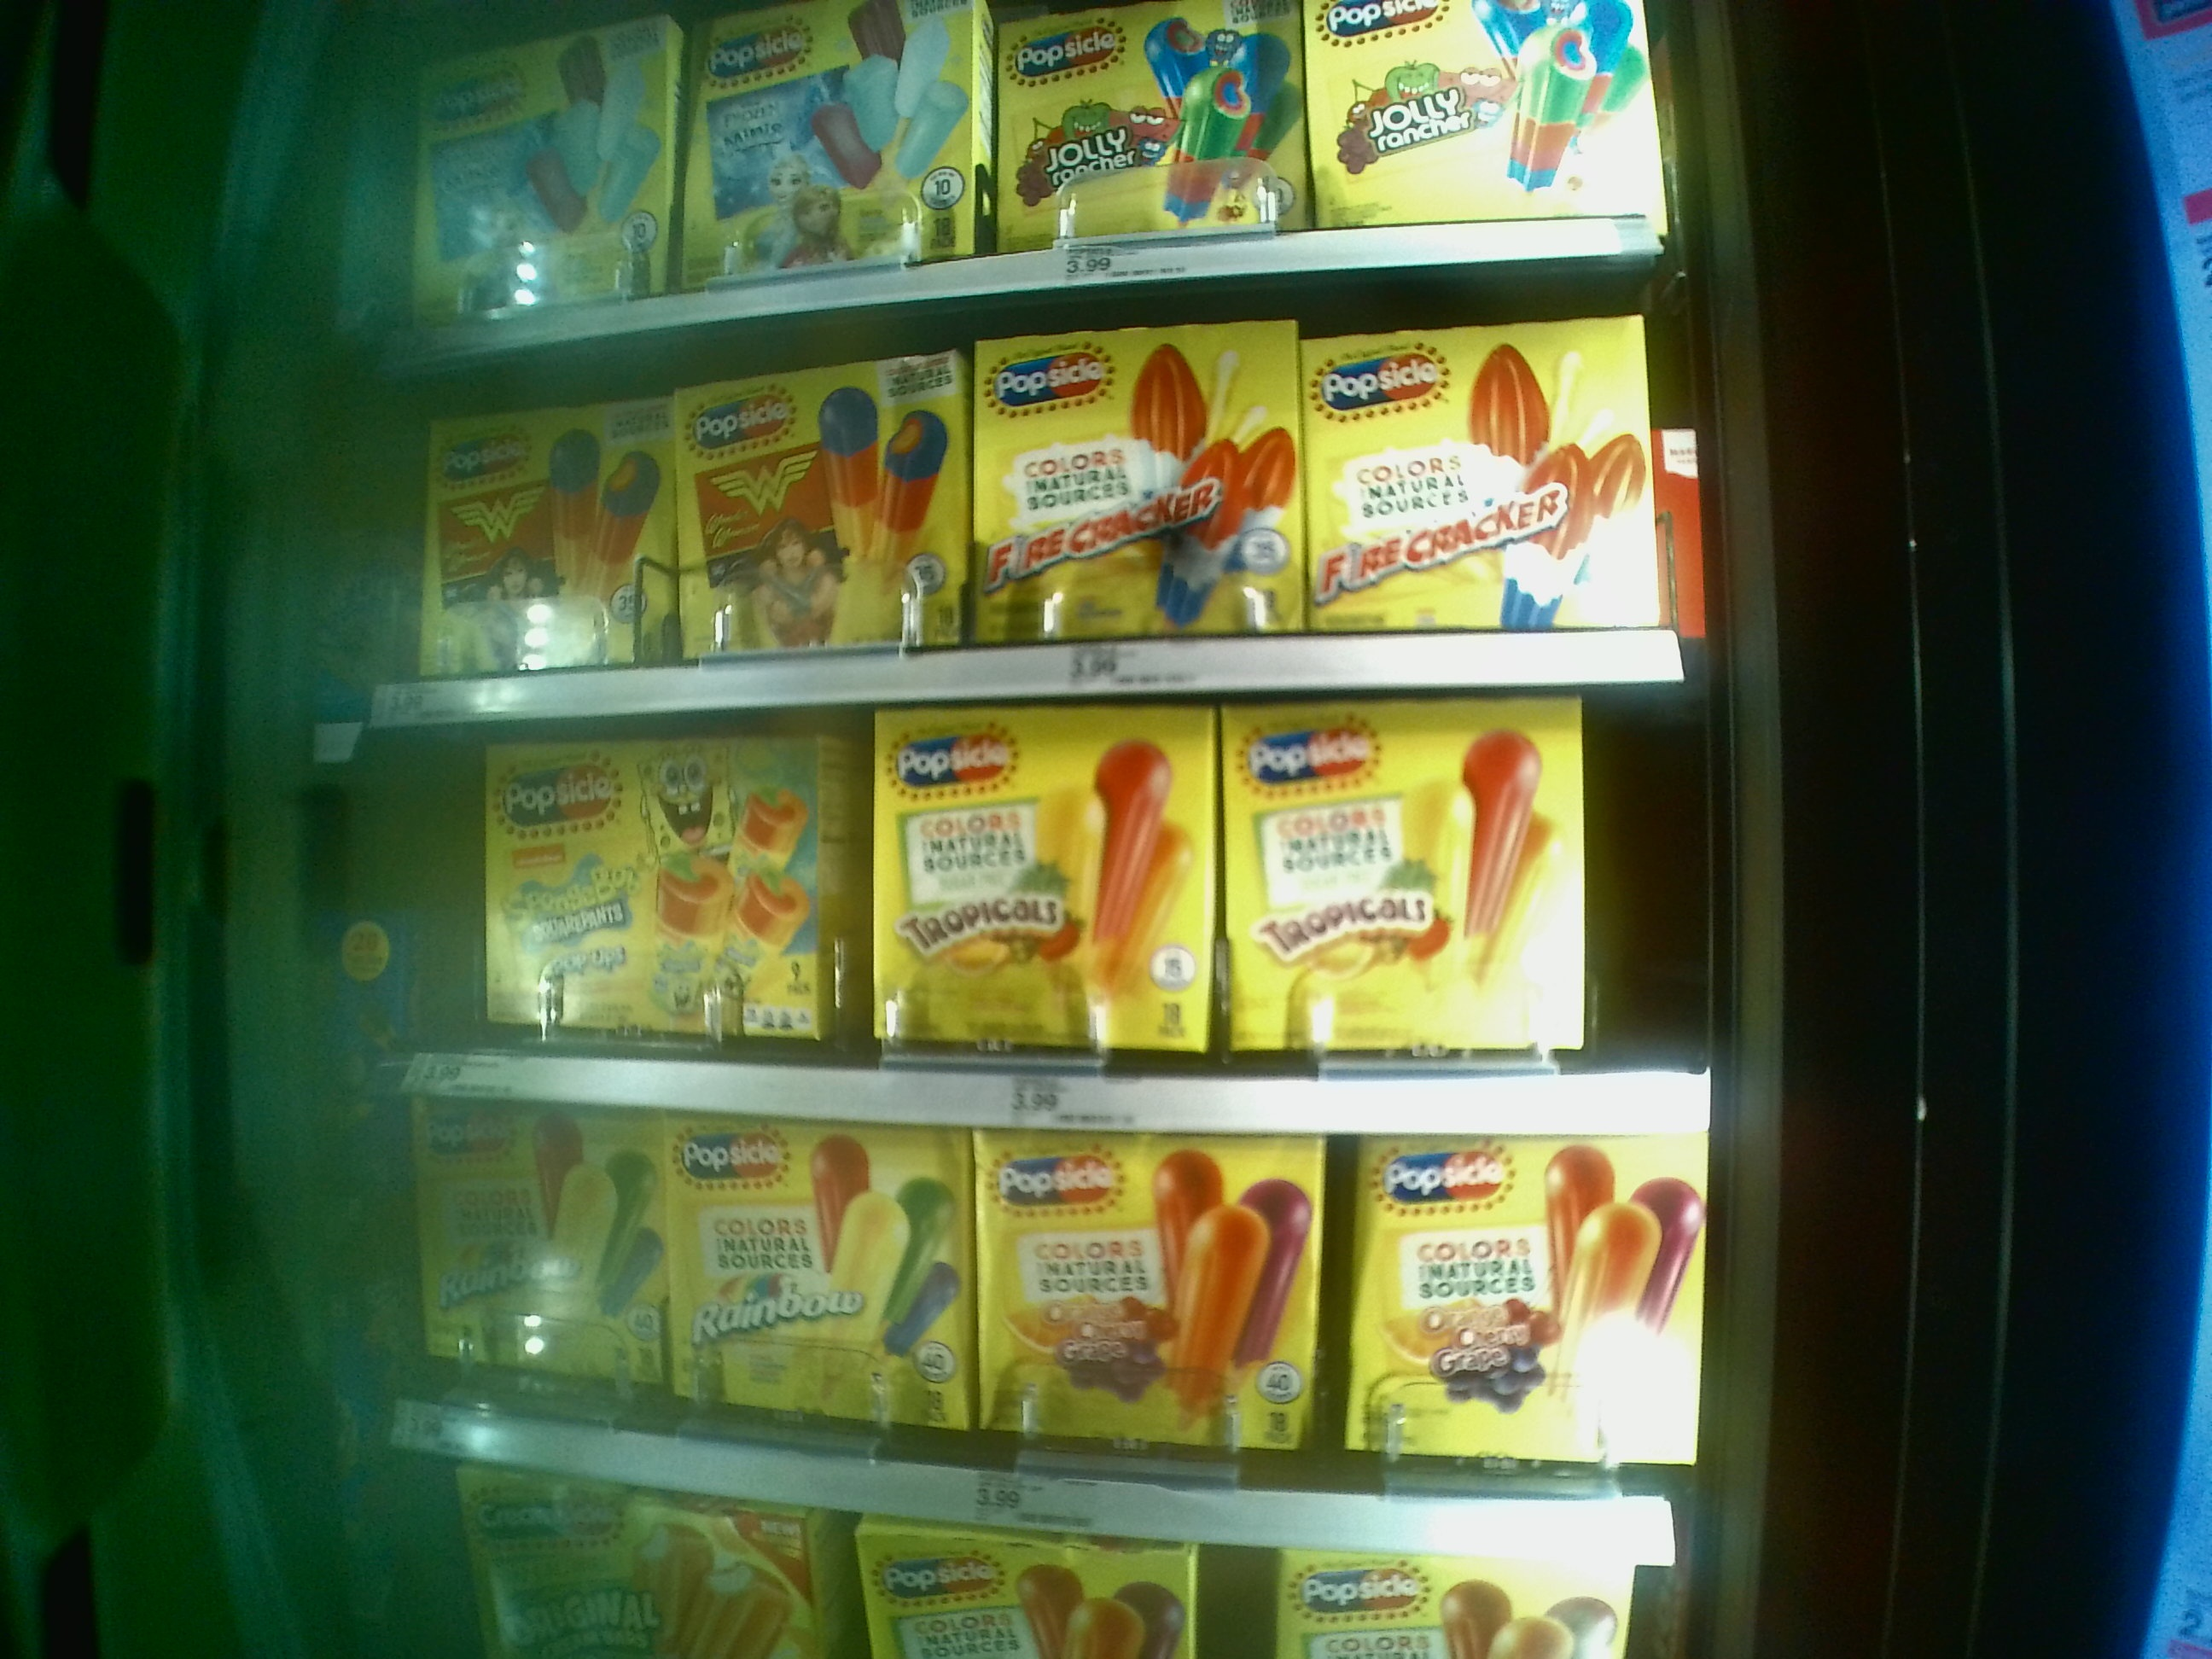shelf: (383, 296, 1686, 716), (378, 730, 1702, 1127)
